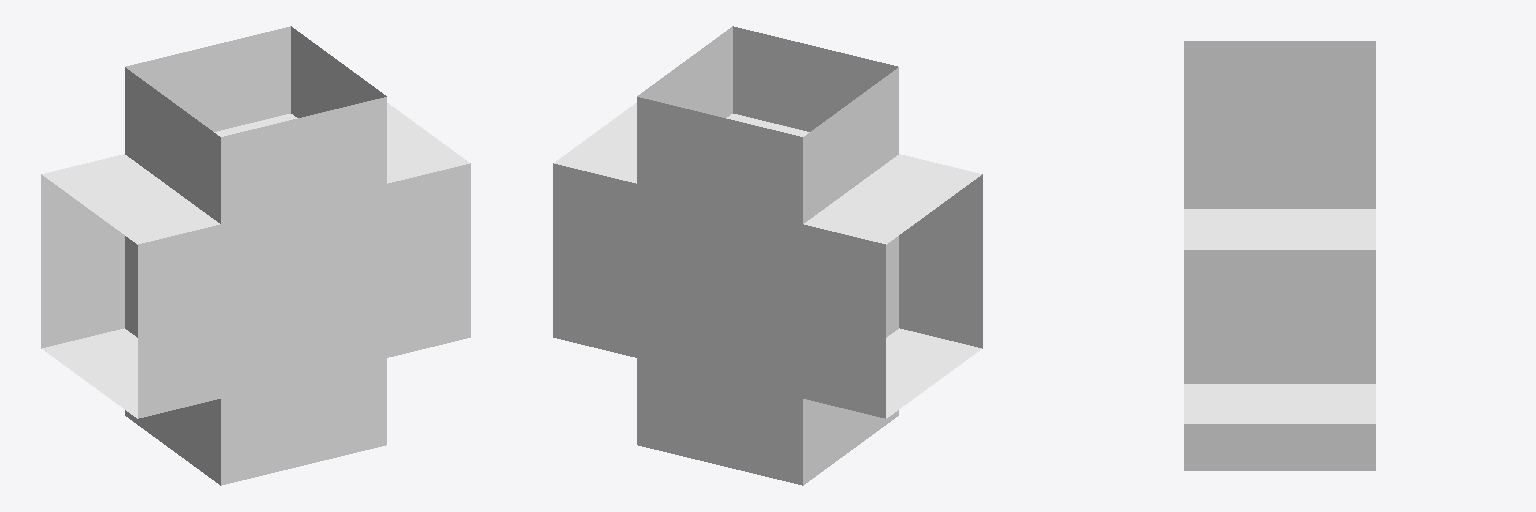
The model's file is main.obj.
3 views of the same model, side by side, from view 1: azimuth 30°, elevation 25°; view 2: azimuth 150°, elevation 25°; view 3: azimuth 270°, elevation 25° (orthographic).
Visible parts, largest first — view 1: Cube_Cube.001; view 2: Cube_Cube.001; view 3: Cube_Cube.001.
Part boxes in pixels (left/top/right/bottom): Cube_Cube.001: left=41, top=26, right=470, bottom=485; Cube_Cube.001: left=553, top=26, right=982, bottom=485; Cube_Cube.001: left=1184, top=41, right=1375, bottom=470.
Size of the model in its own units: 1 by 1 by 0.5.